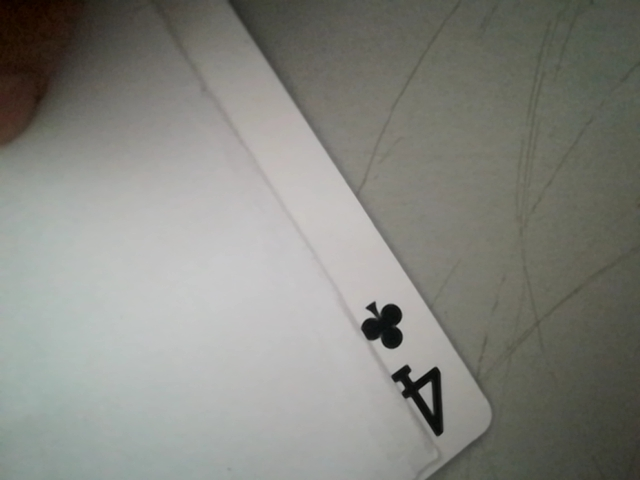mh 4: (347, 291, 466, 452)
